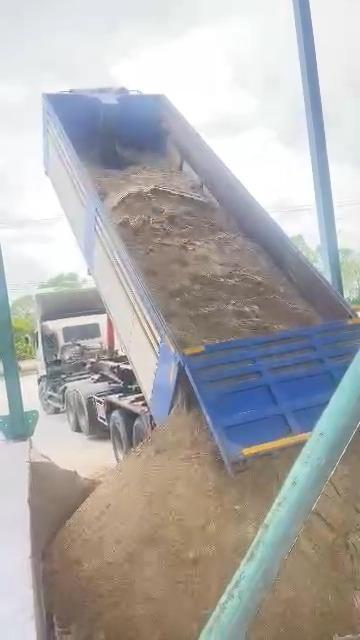sand: (46, 414, 296, 639), (91, 166, 320, 346), (251, 435, 360, 639), (29, 450, 109, 563), (171, 370, 199, 410)
